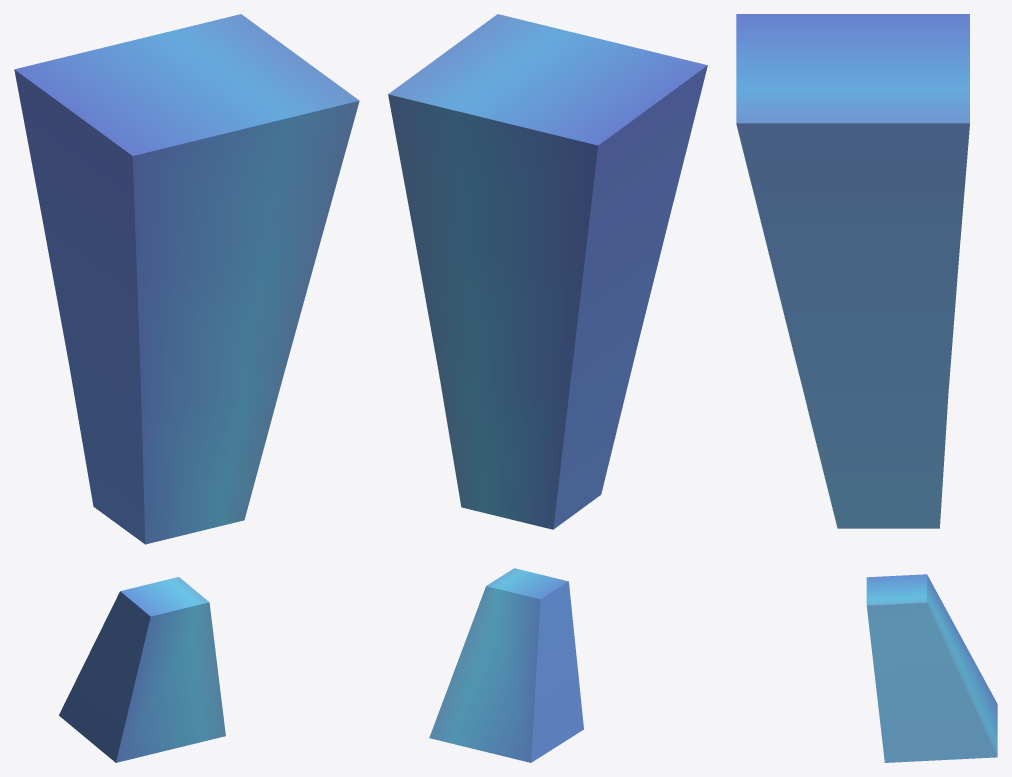
Rendered from quest_mark.fbx.
3 views of the same model, side by side, from view 1: azimuth 30°, elevation 25°; view 2: azimuth 150°, elevation 25°; view 3: azimuth 270°, elevation 25° (orthographic). The views are drawn at different scales.
Visible parts, largest first — view 1: Plane001s; view 2: Plane001s; view 3: Plane001s.
Part boxes in pixels (x1,y1,x2,y2): Plane001s: (14, 14, 359, 762); Plane001s: (388, 14, 707, 762); Plane001s: (736, 14, 997, 762).
Size of the model in its own units: 0.6201 by 0.6269 by 1.77.
1 material, 1 textured.
